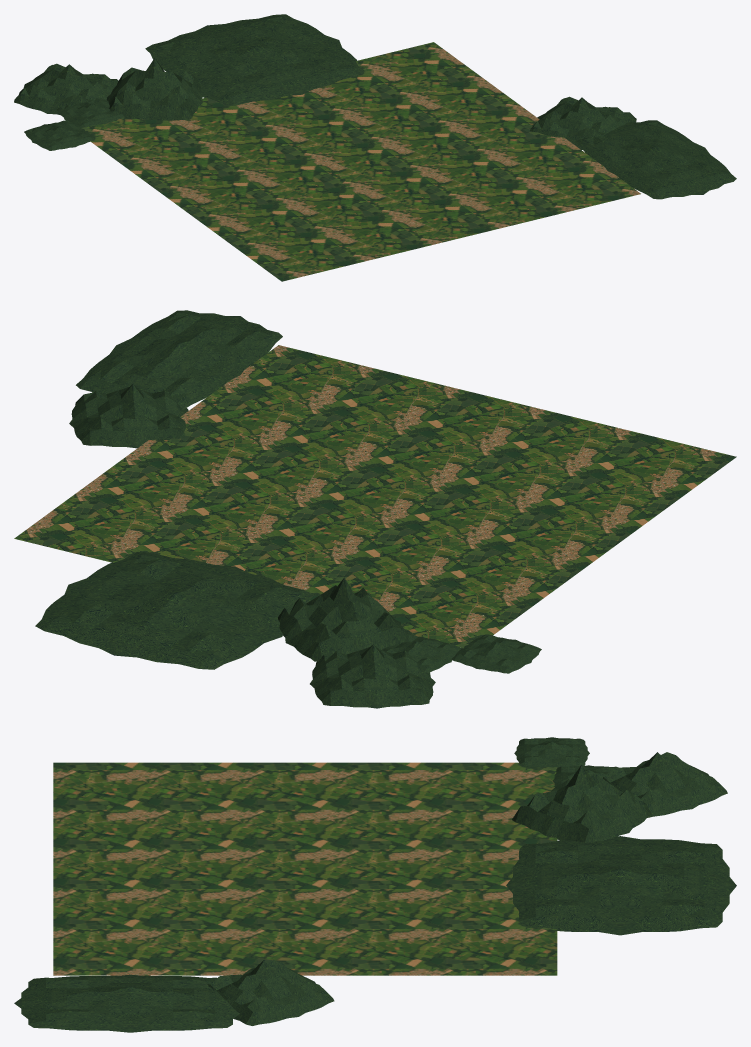
Rendered from land.glb.
The picture shows the model from 3 angles, top to bottom: view 1: azimuth 30°, elevation 25°; view 2: azimuth 150°, elevation 25°; view 3: azimuth 270°, elevation 25°; orthographic projection. The views are drawn at different scales.
Visible parts, largest first — view 1: land, mountain (×7); view 2: land, mountain (×7); view 3: land, mountain (×7).
Boxes of the visible parts, bbox=[...] form: land: bbox=[81, 42, 640, 281]; mountain (×7): bbox=[14, 14, 736, 199]; land: bbox=[14, 345, 736, 648]; mountain (×7): bbox=[35, 310, 541, 708]; land: bbox=[53, 762, 557, 975]; mountain (×7): bbox=[14, 737, 736, 1032].
Bounding box in the file's own units: 10083 × 922 × 10416.
2 materials, 2 textured.
